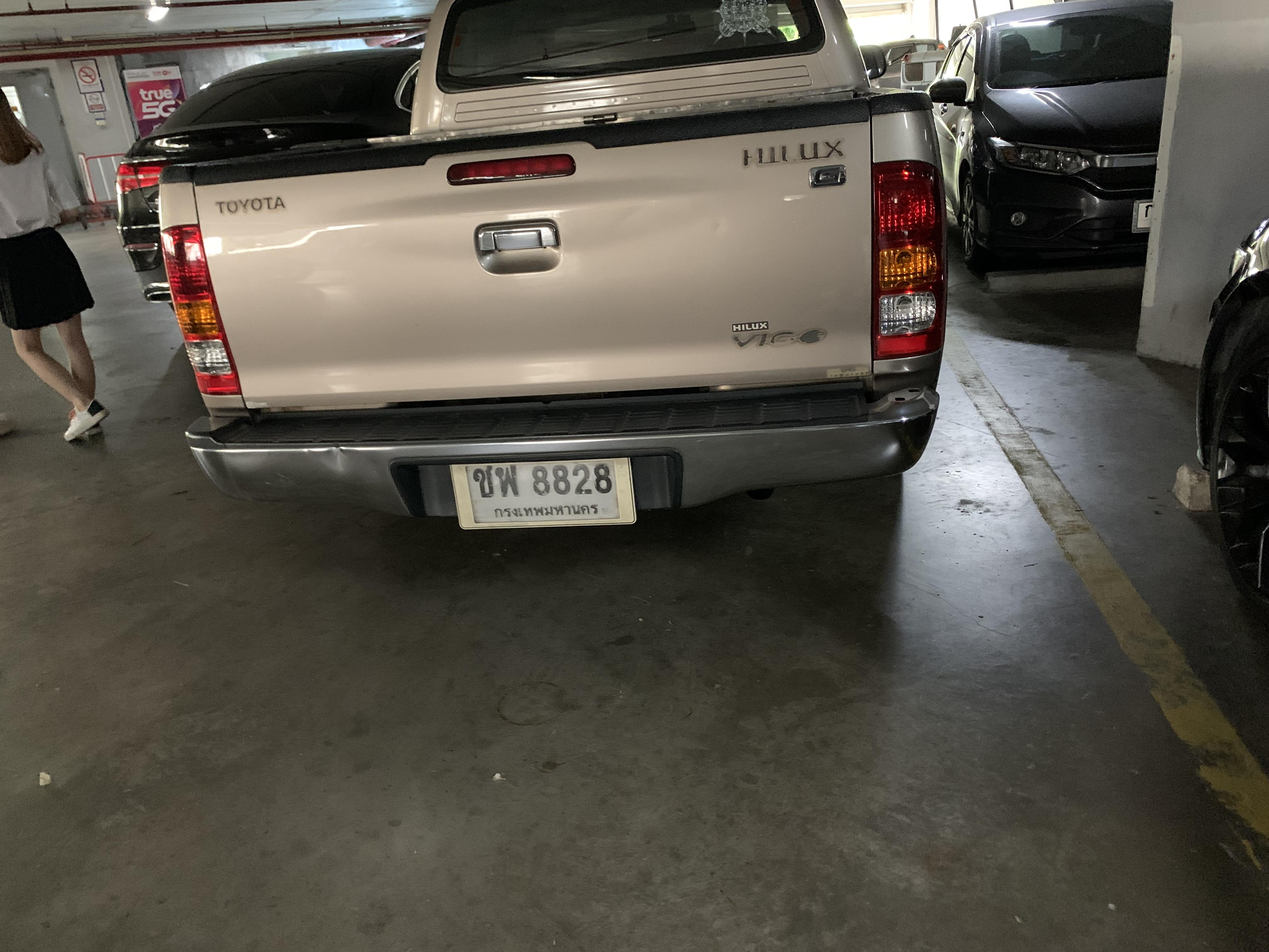license-plate: (447, 453, 638, 534)
